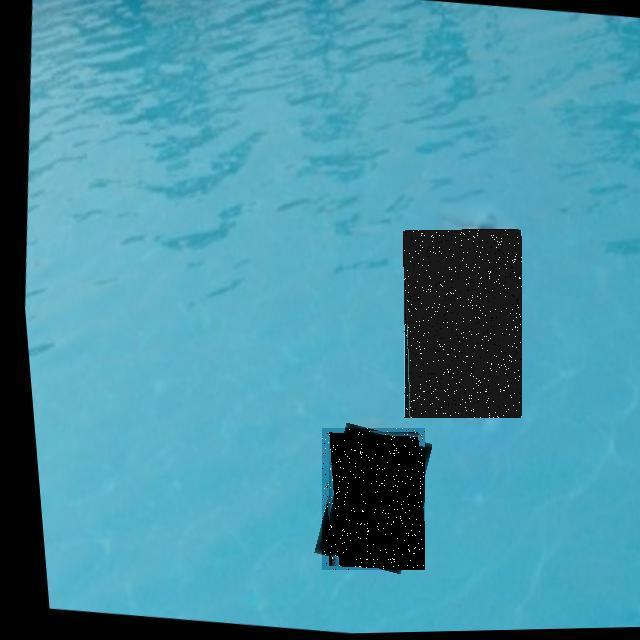swimming: (404, 230, 522, 418), (322, 428, 425, 570)
